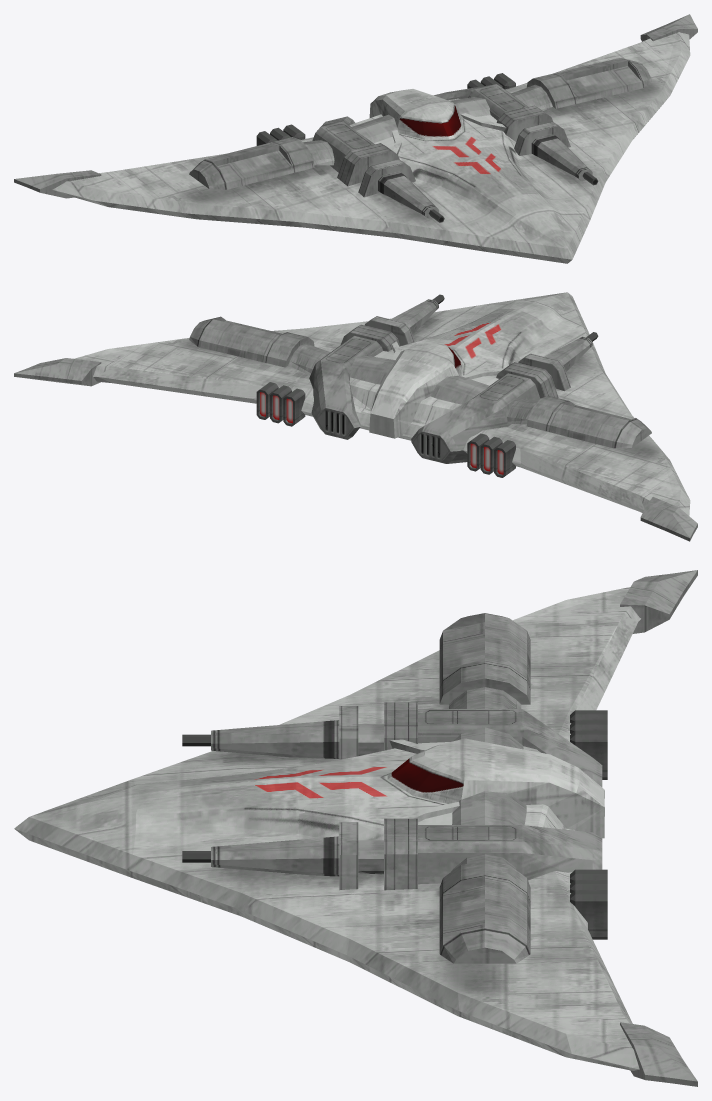
The model's file is Anihilator.obj.
3 renders of one model, top to bottom at view 1: azimuth 30°, elevation 25°; view 2: azimuth 150°, elevation 25°; view 3: azimuth 270°, elevation 25°, orthographic. The views are drawn at different scales.
Visible parts, largest first — view 1: Hull; view 2: Hull, Engine; view 3: Hull.
Part boxes in pixels (box(x1,y1,x2,y2)): Hull: box(14, 14, 697, 263); Hull: box(14, 292, 697, 541); Engine: box(260, 392, 503, 474); Hull: box(14, 570, 697, 1086).
Size of the model in its own units: 117 by 11.92 by 66.33.
